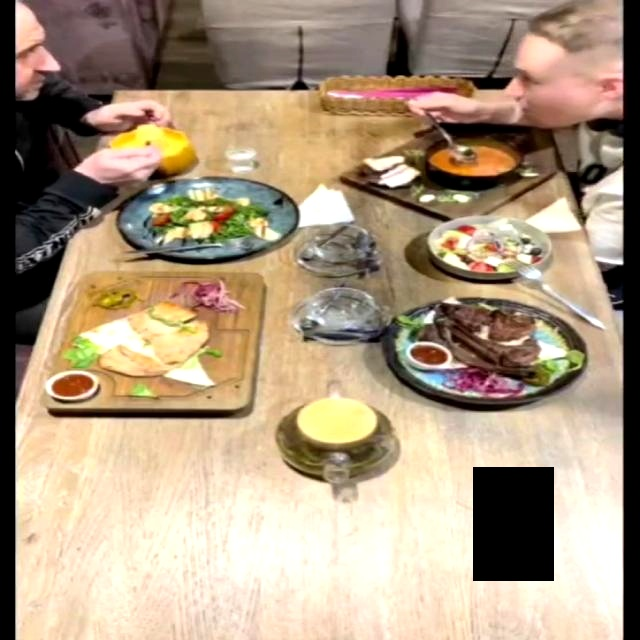meat: (37, 270, 266, 410), (379, 295, 589, 405)
salad: (113, 176, 296, 260), (425, 213, 555, 278)
soup: (337, 121, 561, 220), (109, 123, 197, 175)
tea: (272, 395, 397, 480)
